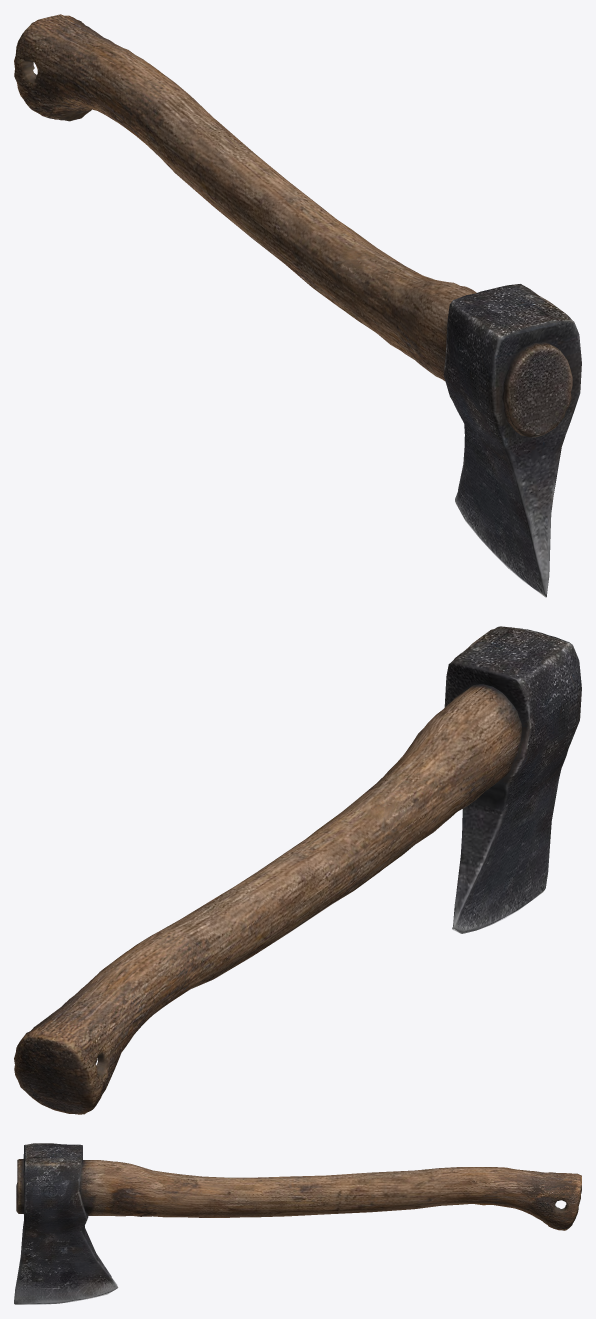
The model's file is axe.glb.
3 views of the same model, one above another, from view 1: azimuth 30°, elevation 25°; view 2: azimuth 150°, elevation 25°; view 3: azimuth 270°, elevation 25° (orthographic). The views are drawn at different scales.
Parts seen in each view (by area): view 1: tripo_node_06f671fa-034f-4073-9a70-e75d8e773112; view 2: tripo_node_06f671fa-034f-4073-9a70-e75d8e773112; view 3: tripo_node_06f671fa-034f-4073-9a70-e75d8e773112.
Part boxes in pixels (x1,y1,x2,y2): tripo_node_06f671fa-034f-4073-9a70-e75d8e773112: [14, 14, 581, 597]; tripo_node_06f671fa-034f-4073-9a70-e75d8e773112: [14, 626, 581, 1114]; tripo_node_06f671fa-034f-4073-9a70-e75d8e773112: [14, 1143, 581, 1304].
Size of the model in its own units: 0.1074 by 0.2949 by 0.998.
Materials: 1 (1 with a texture image).
